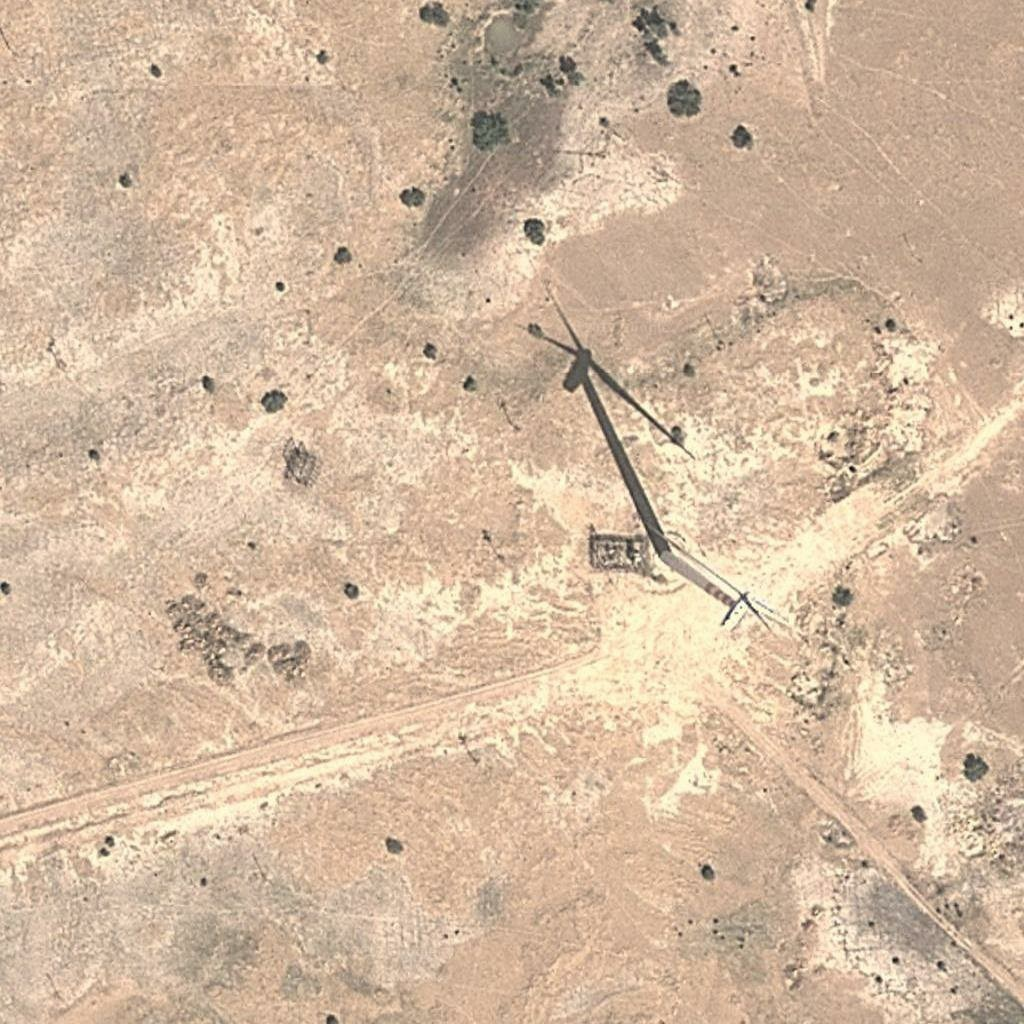Windmill: (515, 280, 705, 557)
